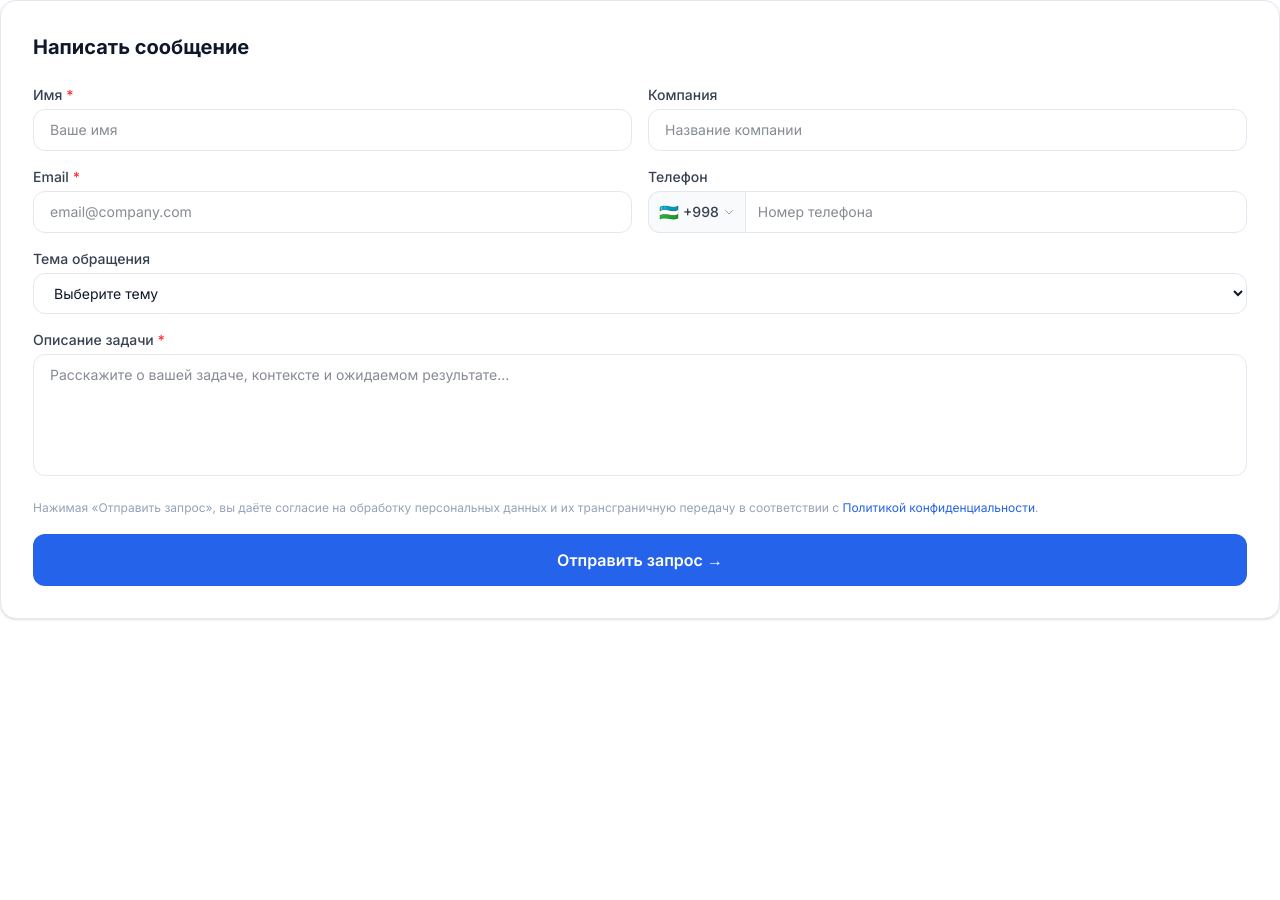
Test: ContactForm — Russian (default) › shows success state after submit
Type "Тест" into the field named "name". click: (332, 130)
box: [33,109,632,151]
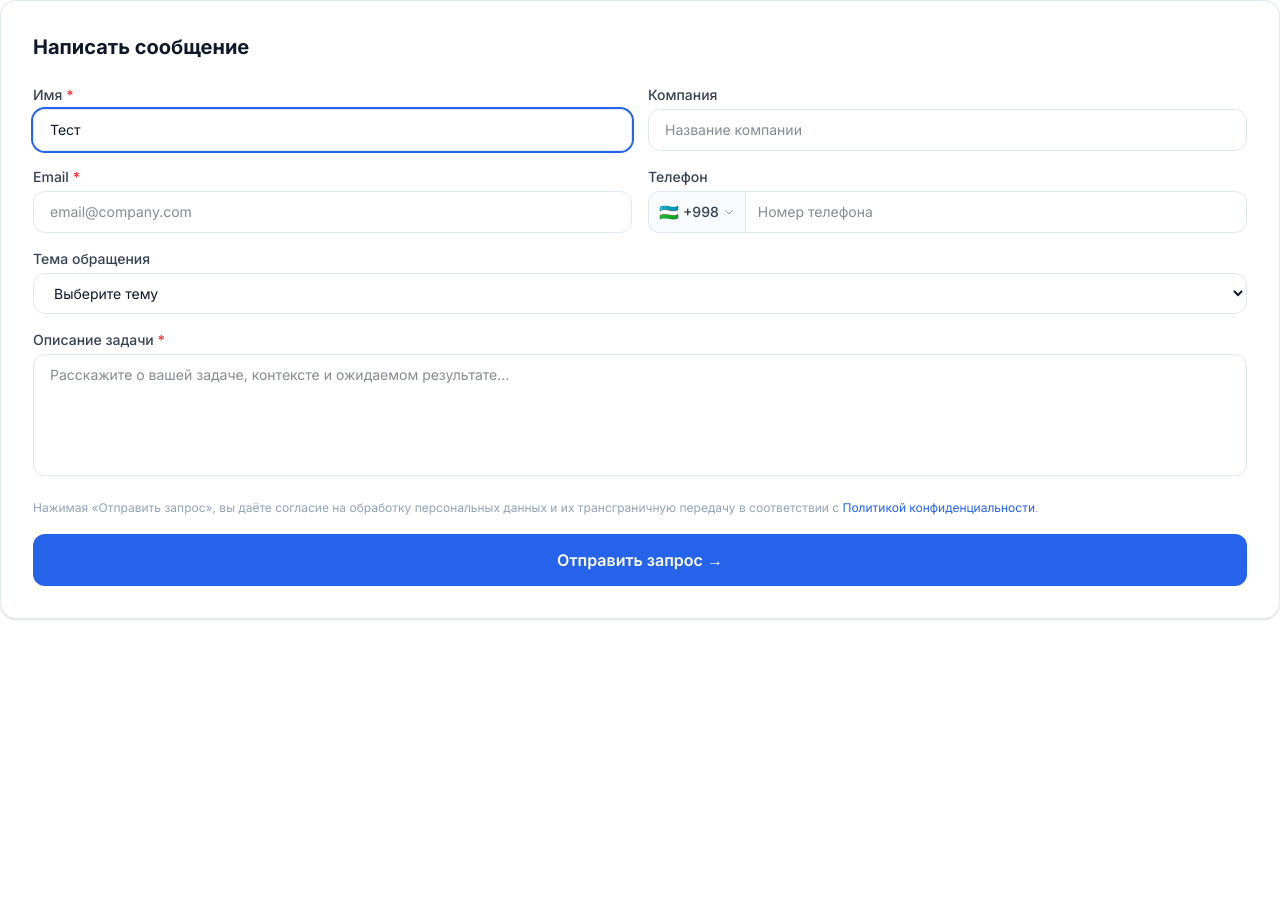
Type "test@test.com" into the field named "email". click: (332, 212)
box: [33,191,632,233]
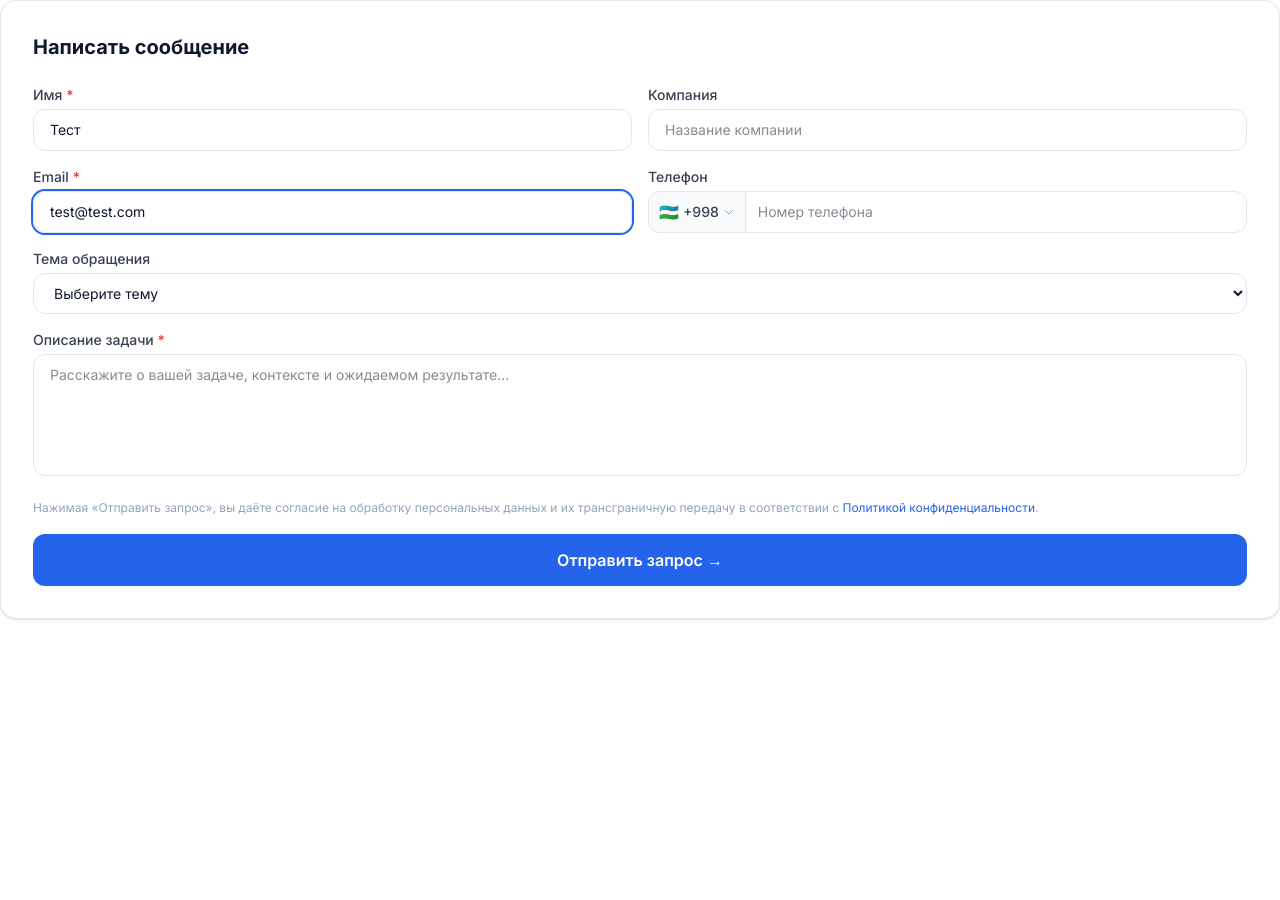
Type "Тест" into the text box named "message". click: (640, 415)
box: [33,354,1247,476]
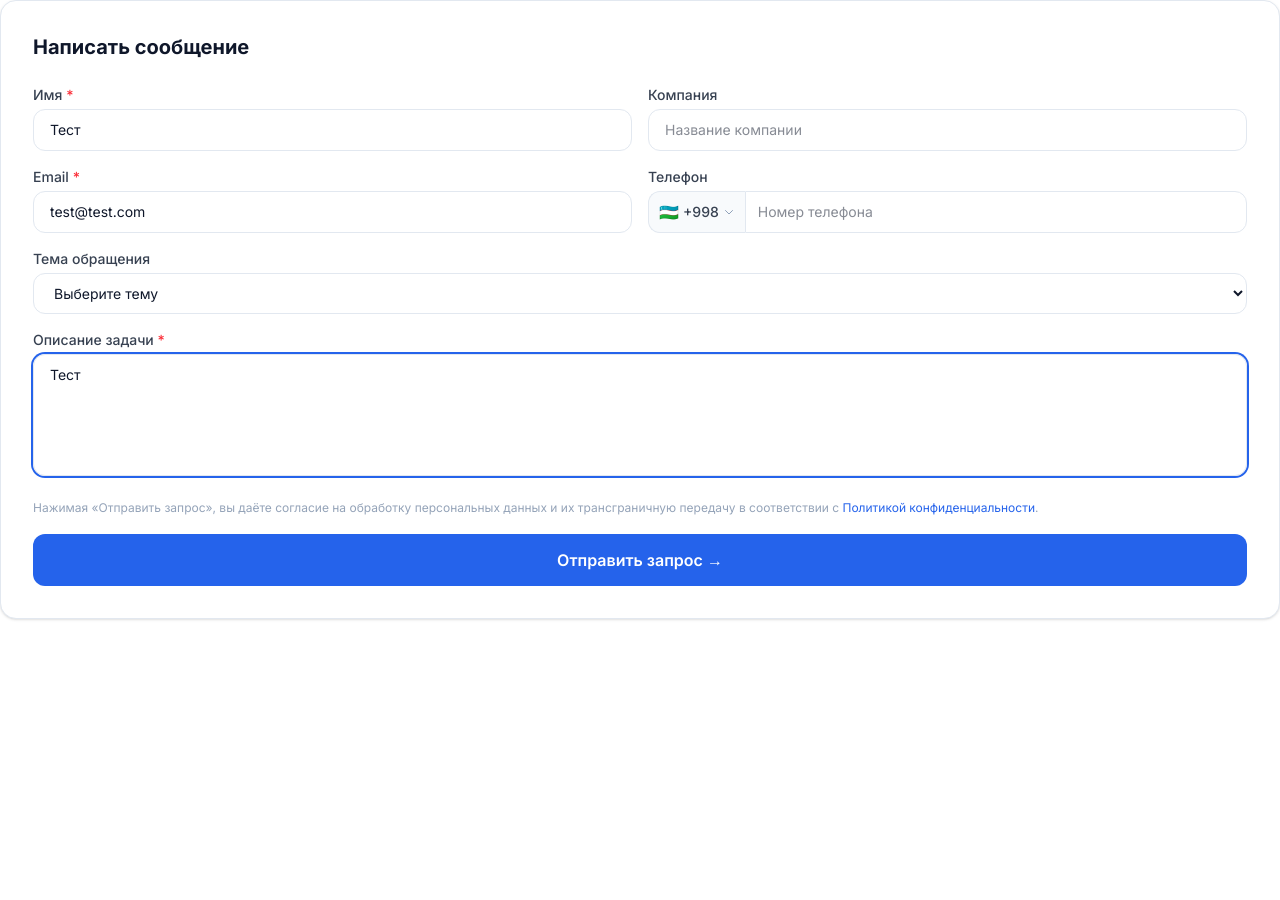
Click the submit button. click: (640, 560)
box: [33,534,1247,586]
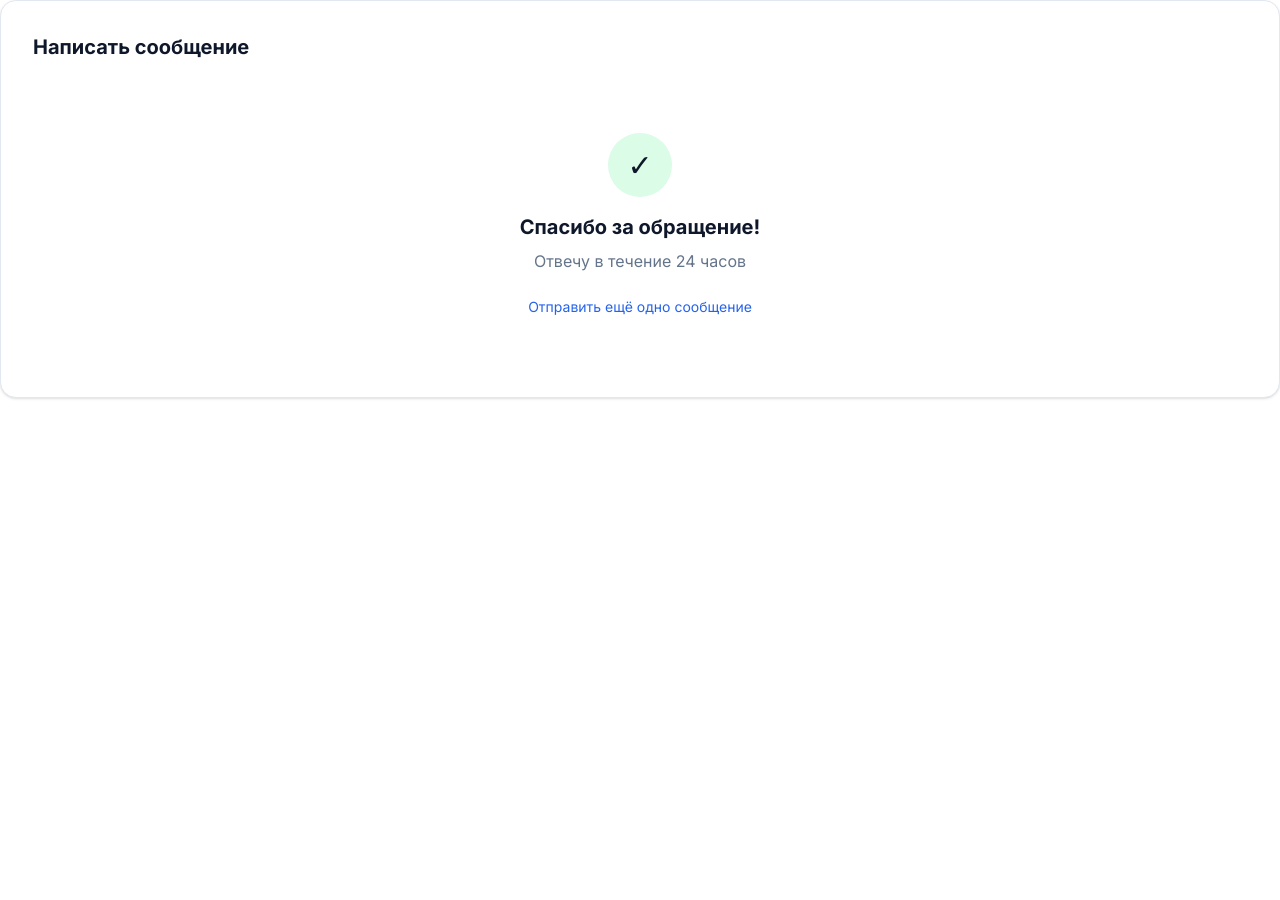
Check: the heading "Спасибо за обращение!" is shown, box [520,213,760,241]
